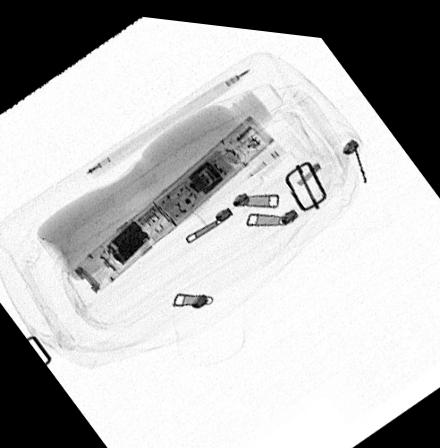Baton: (73, 106, 277, 292)
